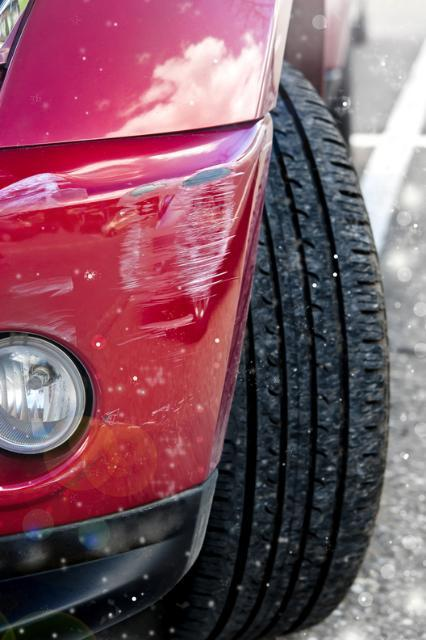Bumper: (0, 128, 271, 640)
